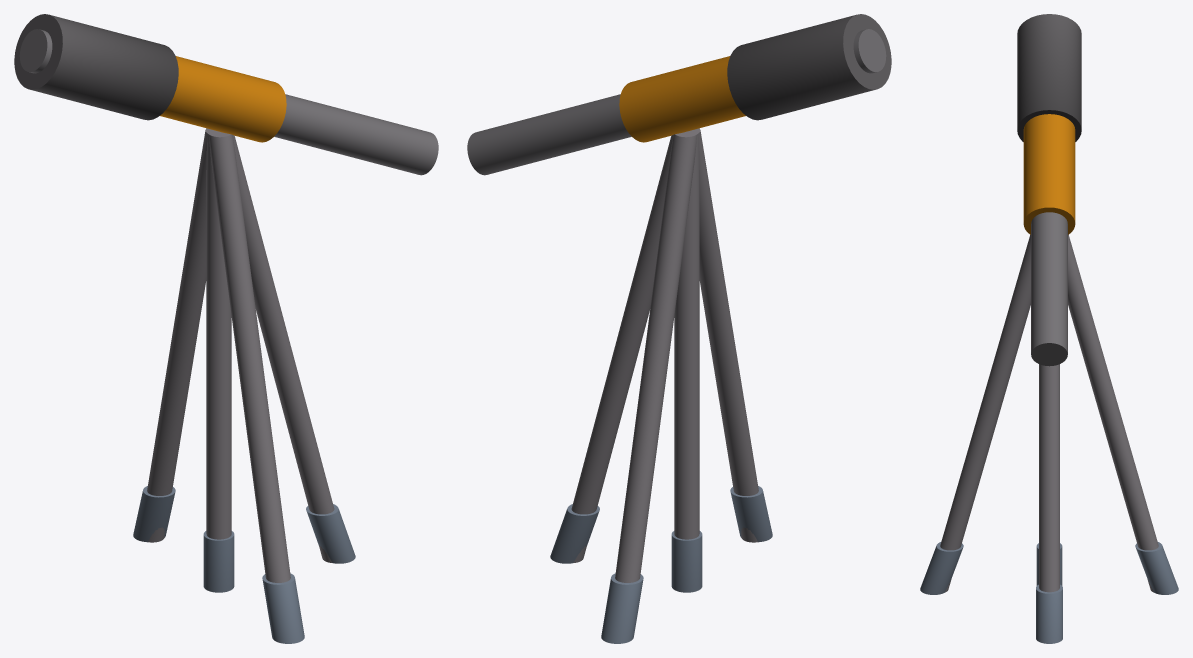
File: SM_Telescope.fbx
3 renders of one model, left to right at view 1: azimuth 30°, elevation 25°; view 2: azimuth 150°, elevation 25°; view 3: azimuth 270°, elevation 25°, orthographic. The views are drawn at different scales.
Visible parts, largest first — view 1: SM_Telescope; view 2: SM_Telescope; view 3: SM_Telescope.
Boxes of the visible parts, bbox=[...] form: SM_Telescope: bbox=[14, 14, 438, 643]; SM_Telescope: bbox=[467, 14, 891, 643]; SM_Telescope: bbox=[920, 14, 1178, 643].
Size of the model in its own units: 94.1 by 61.86 by 134.
